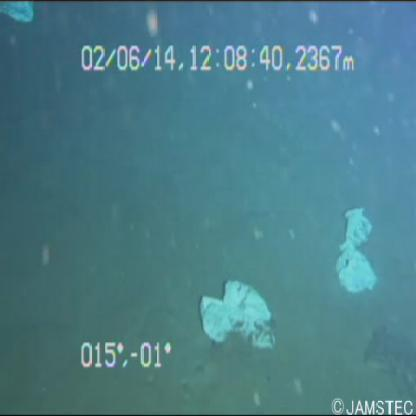Rác: (192, 260, 280, 358), (330, 192, 381, 298)
